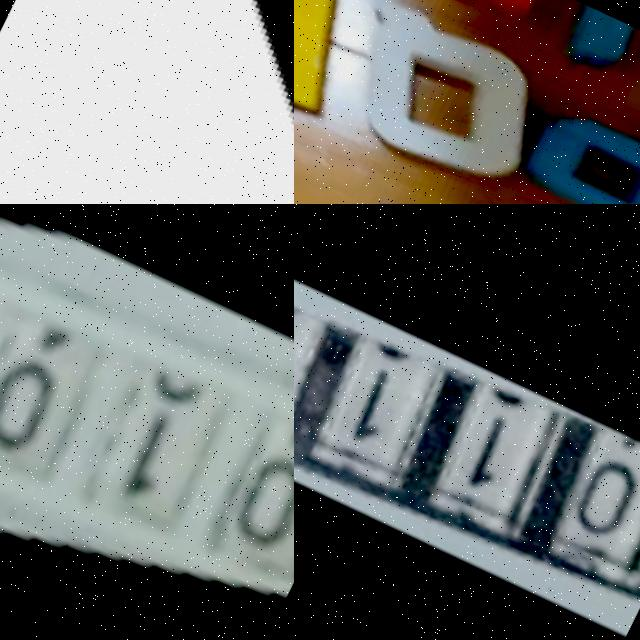0: (0, 340, 88, 489), (208, 442, 294, 584), (556, 457, 640, 563)
1: (89, 403, 199, 531), (320, 359, 418, 468), (439, 408, 532, 514)
K: (0, 0, 294, 204)
P: (506, 60, 640, 204)
Q: (312, 0, 564, 204)
R: (294, 0, 377, 137)
